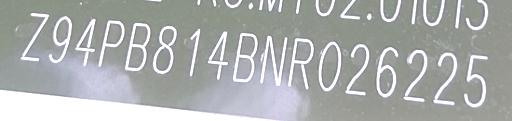letter: (16, 9, 54, 64), (342, 40, 376, 99), (400, 47, 434, 106), (256, 31, 290, 88), (430, 49, 462, 108), (94, 15, 128, 68), (71, 14, 103, 69), (461, 54, 493, 109), (230, 28, 260, 85), (286, 34, 316, 91), (124, 20, 154, 75), (148, 24, 180, 75), (316, 38, 344, 93), (46, 13, 74, 66), (206, 27, 232, 82), (374, 44, 400, 99), (182, 25, 206, 78)
